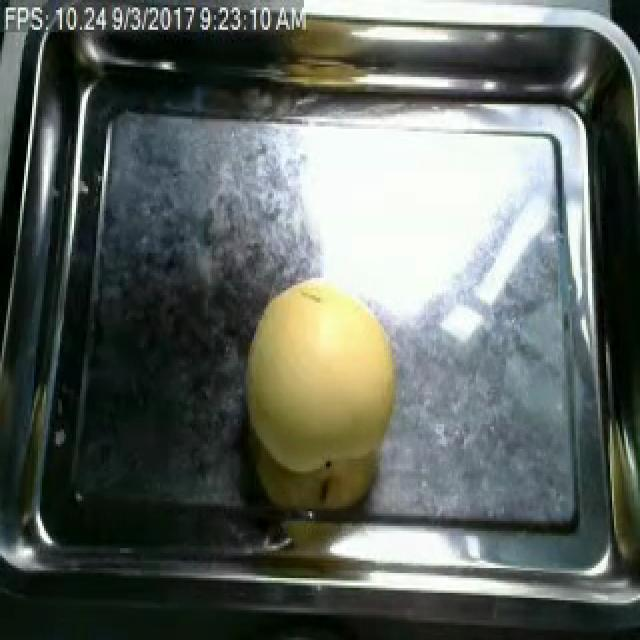Fruit: (232, 271, 412, 508)
